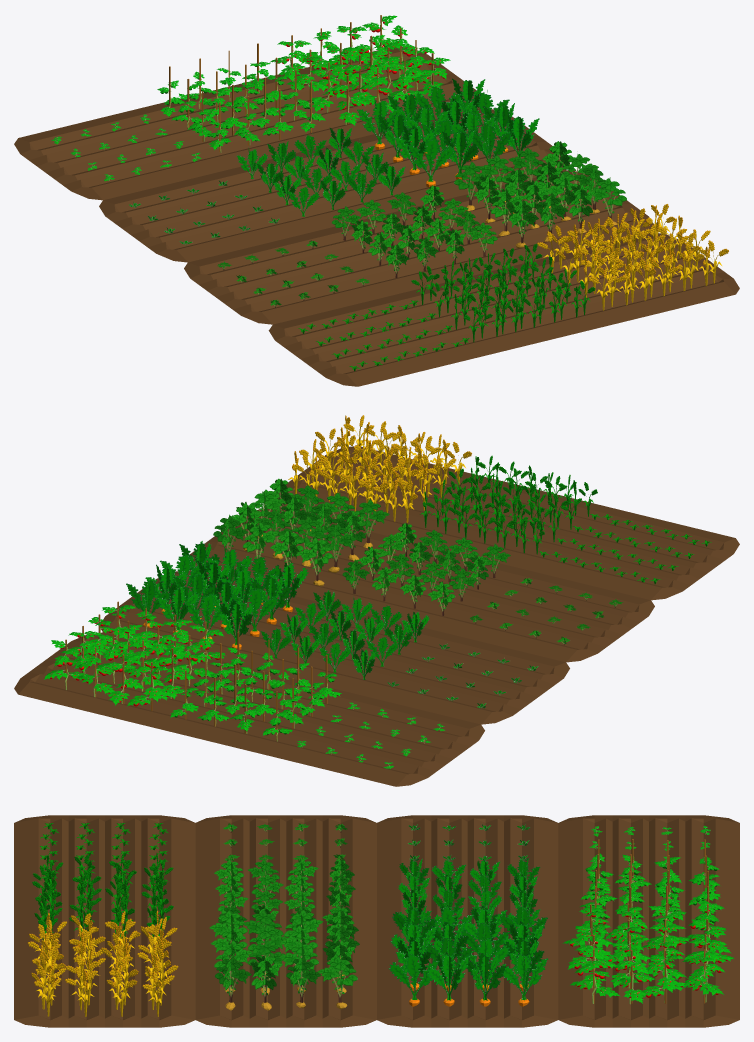
File: Crops.fbx
The picture shows the model from 3 angles, top to bottom: view 1: azimuth 30°, elevation 25°; view 2: azimuth 150°, elevation 25°; view 3: azimuth 270°, elevation 25°; orthographic projection. The views are drawn at different scales.
Parts seen in each view (by area): view 1: Soil.002, Soil, Soil.003, Soil.001, Carrot_F3, Potatoe_F3, Tomatoe_F3, Wheat_F3, Potatoe_F2, Carrot_F2, Wheat_F2, Tomatoe_F2 (+4 smaller); view 2: Soil.003, Soil.002, Soil.001, Soil, Carrot_F3, Potatoe_F3, Tomatoe_F3, Wheat_F3, Potatoe_F2, Carrot_F2, Wheat_F2, Tomatoe_F2 (+4 smaller); view 3: Soil.002, Soil.003, Soil, Soil.001, Carrot_F3, Tomatoe_F3, Potatoe_F3, Wheat_F3, Carrot_F2, Potatoe_F2, Tomatoe_F2, Wheat_F2 (+4 smaller).
Part boxes in pixels (bbox=[...]): Soil.002: bbox=[268, 233, 739, 386]; Soil: bbox=[184, 170, 653, 324]; Soil.003: bbox=[14, 46, 479, 200]; Soil.001: bbox=[99, 108, 569, 262]; Carrot_F3: bbox=[357, 78, 539, 187]; Potatoe_F3: bbox=[454, 141, 626, 248]; Tomatoe_F3: bbox=[269, 15, 450, 125]; Wheat_F3: bbox=[537, 204, 728, 310]; Potatoe_F2: bbox=[332, 185, 497, 277]; Carrot_F2: bbox=[236, 128, 405, 216]; Wheat_F2: bbox=[411, 243, 595, 342]; Tomatoe_F2: bbox=[157, 43, 325, 152]; Soil.003: bbox=[14, 632, 484, 786]; Soil.002: bbox=[278, 446, 739, 600]; Soil.001: bbox=[100, 570, 569, 724]; Soil: bbox=[190, 509, 654, 662]; Carrot_F3: bbox=[126, 541, 308, 649]; Potatoe_F3: bbox=[213, 478, 389, 586]; Tomatoe_F3: bbox=[44, 601, 225, 711]; Wheat_F3: bbox=[288, 415, 471, 522]; Potatoe_F2: bbox=[342, 523, 510, 615]; Carrot_F2: bbox=[260, 590, 429, 679]; Wheat_F2: bbox=[420, 455, 597, 554]; Tomatoe_F2: bbox=[170, 631, 341, 741]; Soil.002: bbox=[14, 815, 195, 1027]; Soil.003: bbox=[558, 815, 739, 1027]; Soil: bbox=[195, 815, 376, 1027]; Soil.001: bbox=[377, 815, 558, 1027]; Carrot_F3: bbox=[388, 905, 548, 1006]; Tomatoe_F3: bbox=[562, 901, 734, 1004]; Potatoe_F3: bbox=[209, 909, 359, 1010]; Wheat_F3: bbox=[27, 910, 178, 1016]; Carrot_F2: bbox=[398, 858, 540, 930]; Potatoe_F2: bbox=[214, 859, 355, 940]; Tomatoe_F2: bbox=[580, 839, 725, 935]; Wheat_F2: bbox=[32, 852, 173, 940].
Bounding box in the file's own units: 752 × 89.09 × 1086.
